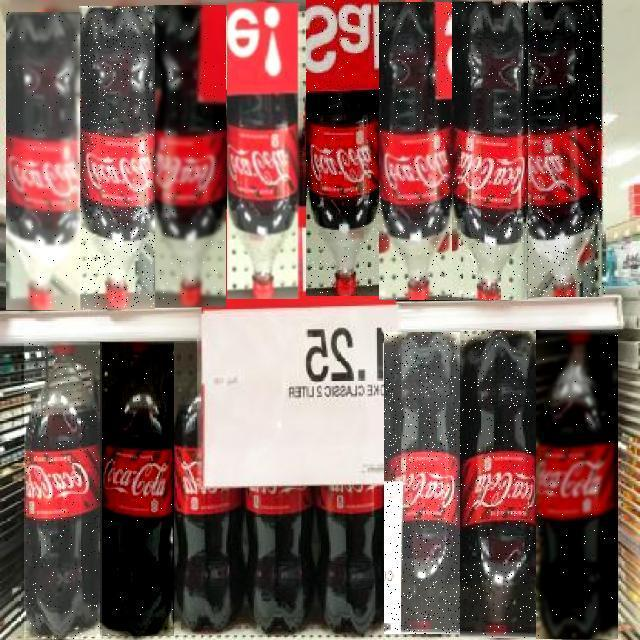Drinks: (536, 330, 618, 639), (524, 0, 606, 297), (461, 331, 537, 639), (24, 343, 102, 639), (79, 6, 155, 309), (385, 332, 461, 634), (452, 0, 528, 300), (6, 12, 80, 310), (228, 3, 302, 299), (100, 342, 174, 636), (379, 2, 452, 300), (154, 5, 226, 307), (306, 1, 379, 297)
